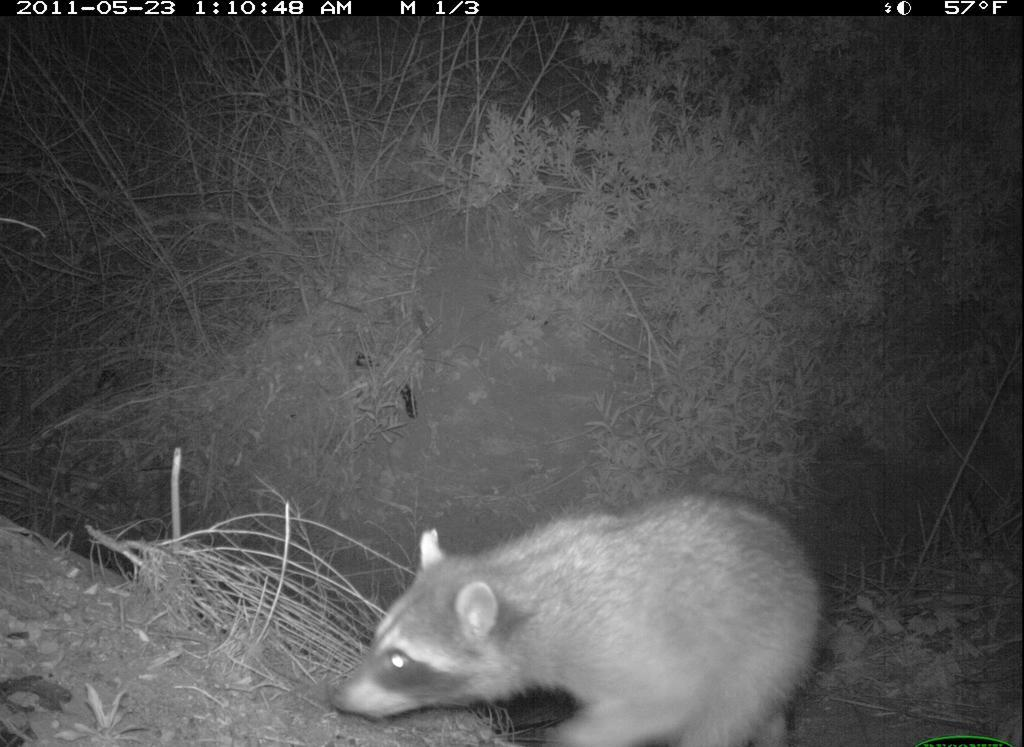raccoon: (327, 488, 827, 747)
